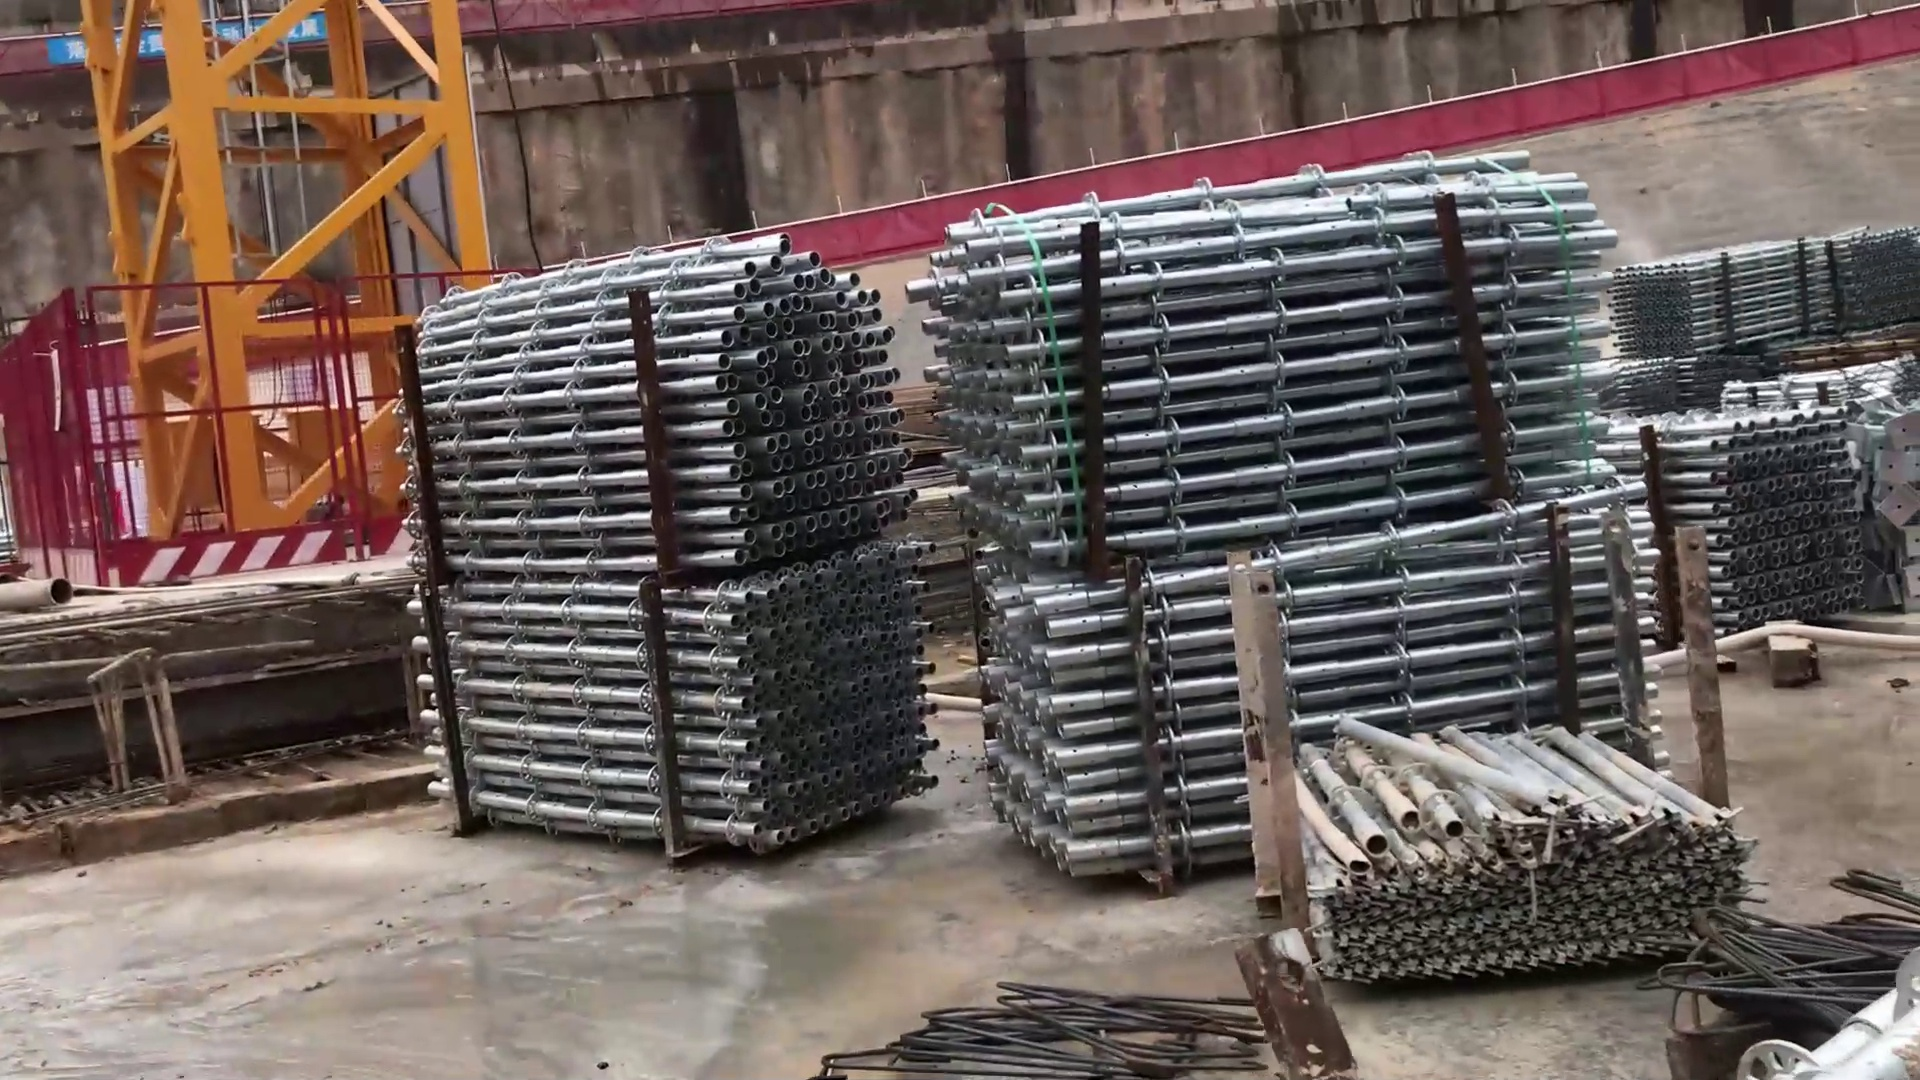rebar: (807, 978, 1247, 1080), (1673, 864, 1920, 1010)
scaffold: (920, 144, 1687, 738), (414, 235, 948, 860), (1284, 723, 1770, 1004), (1654, 389, 1882, 649), (1621, 233, 1907, 364)
